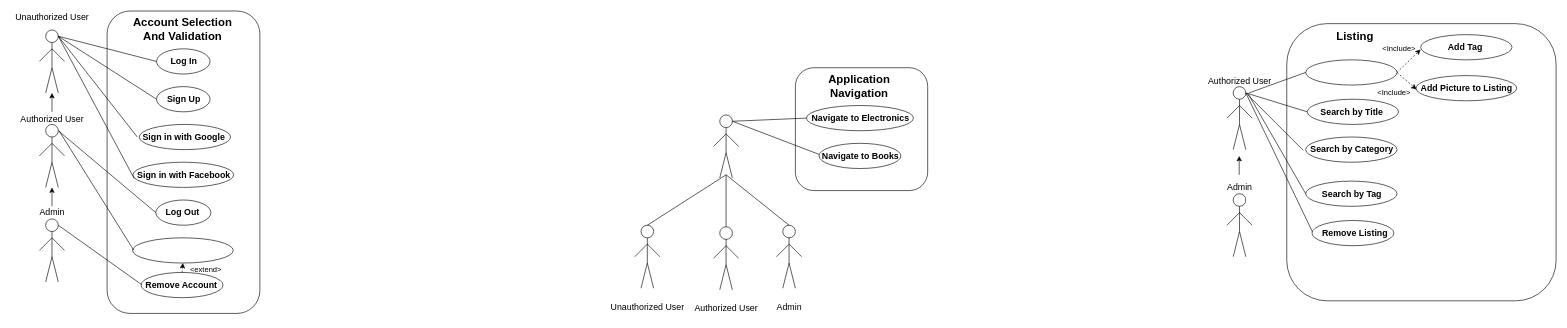
This 1567x328 diagram has some shape labels left out. The shapes that lost their labels are listed below. From the top down, each one's centre as x and y in pixels, then its label:
point (1351, 72): Create Listing
point (182, 250): Remove Own Account
